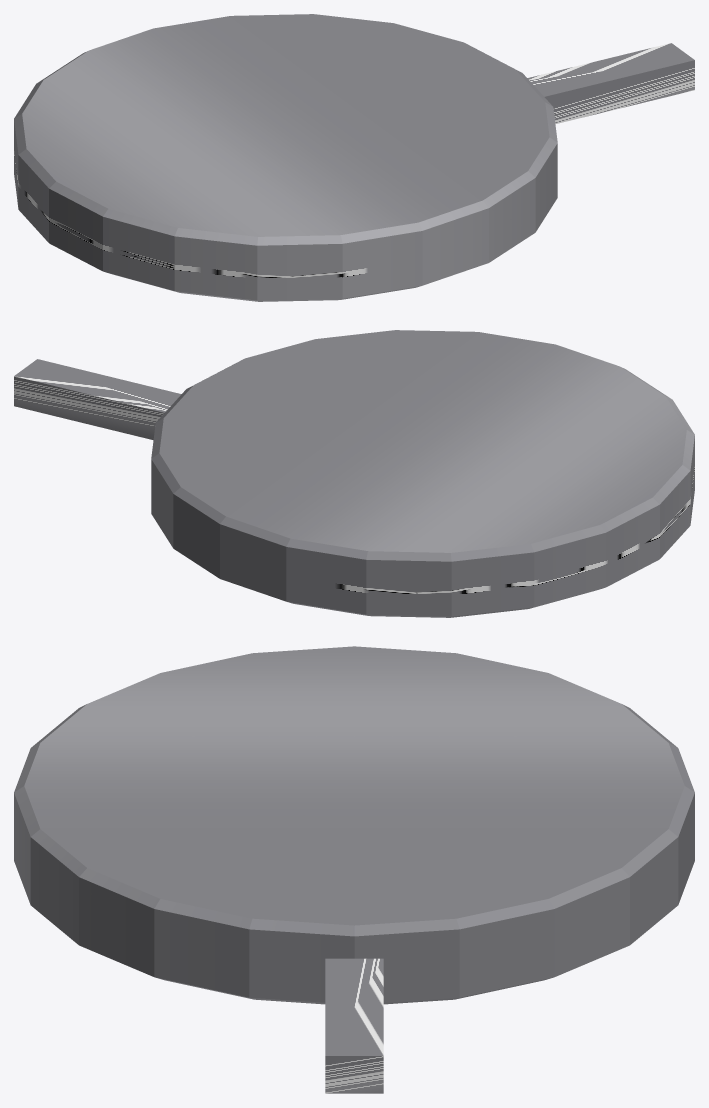
The model's file is pan_medium.obj.
3 renders of one model, top to bottom at view 1: azimuth 30°, elevation 25°; view 2: azimuth 150°, elevation 25°; view 3: azimuth 270°, elevation 25°, orthographic. The views are drawn at different scales.
Visible parts, largest first — view 1: pan_medium; view 2: pan_medium; view 3: pan_medium.
Boxes of the visible parts, bbox=[...] form: pan_medium: bbox=[14, 14, 694, 301]; pan_medium: bbox=[14, 330, 694, 617]; pan_medium: bbox=[14, 646, 694, 1093].
Size of the model in its own units: 0.375 by 0.038 by 0.28.
1 material, 1 textured.
